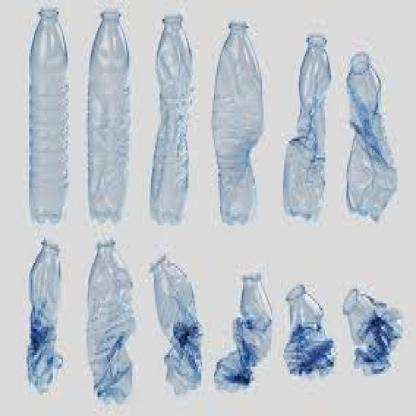Plastic Bottle: (22, 3, 404, 404), (210, 19, 263, 226), (149, 13, 195, 226), (86, 7, 130, 225), (343, 41, 396, 221), (27, 5, 70, 226), (281, 33, 331, 222), (148, 246, 204, 394), (86, 238, 134, 404), (213, 271, 273, 391), (26, 240, 64, 393), (342, 286, 404, 376), (283, 283, 336, 377)
